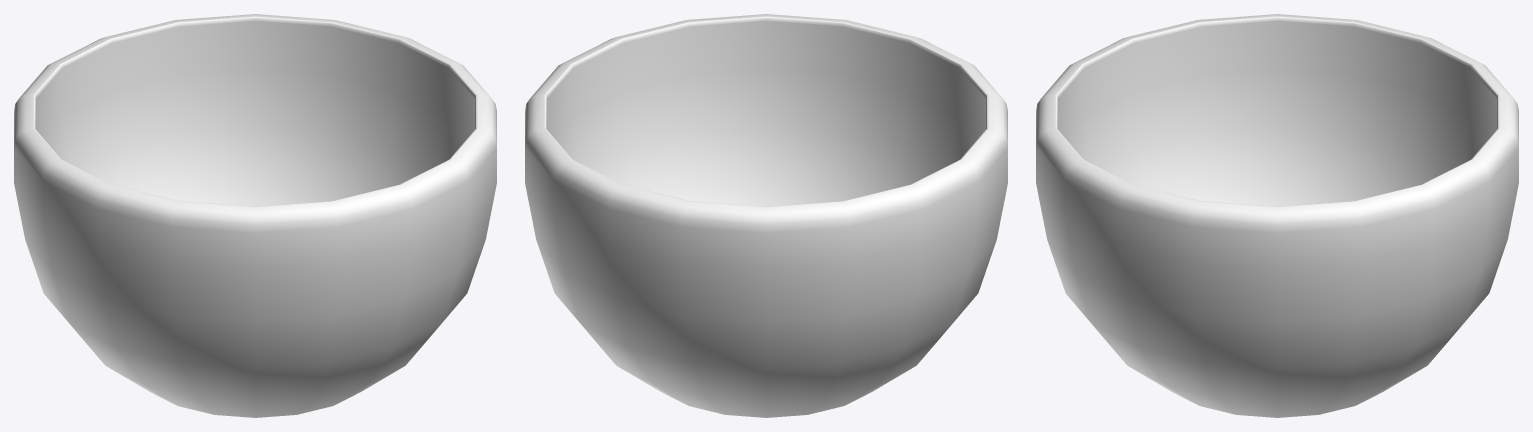
File: Glass 2.FBX
The picture shows the model from 3 angles, left to right: view 1: azimuth 30°, elevation 25°; view 2: azimuth 150°, elevation 25°; view 3: azimuth 270°, elevation 25°; orthographic projection.
Visible parts, largest first — view 1: glass 2; view 2: glass 2; view 3: glass 2.
Part boxes in pixels (x1,y1,x2,y2): glass 2: (14, 14, 496, 417); glass 2: (525, 14, 1007, 417); glass 2: (1036, 14, 1518, 417).
Bounding box in the file's own units: 7.59 × 4.36 × 7.48.
1 material, 1 textured.
